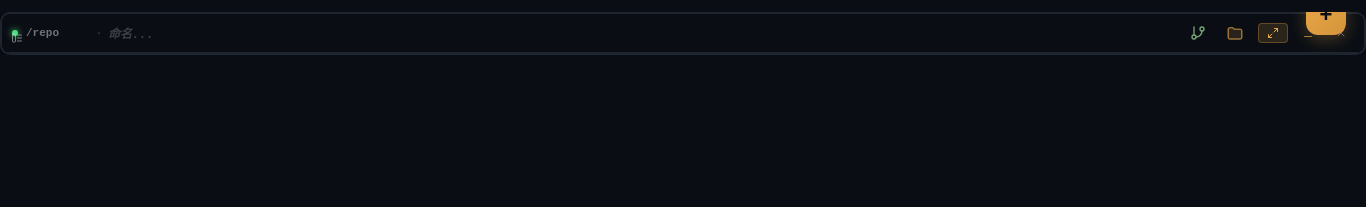
Test: M6 批A worktree 浮层 live › 按钮点击开浮层且不冒泡 tileClick；loading→ready 渲染 worktree 列表
What coordinates should you click on to do the following:
click the button with class "tile-worktree-btn"
I would click on:
 (1198, 33)
Its box is [1184,21,1212,45].
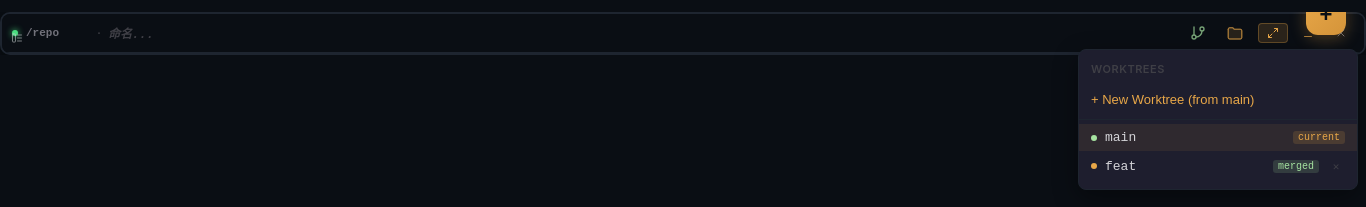
Check: the element with class "worktree-popover" is shown, box [1078,49,1358,190]
Check: the button with class "worktree-popover__delete" is shown, box [1333,160,1339,172]
